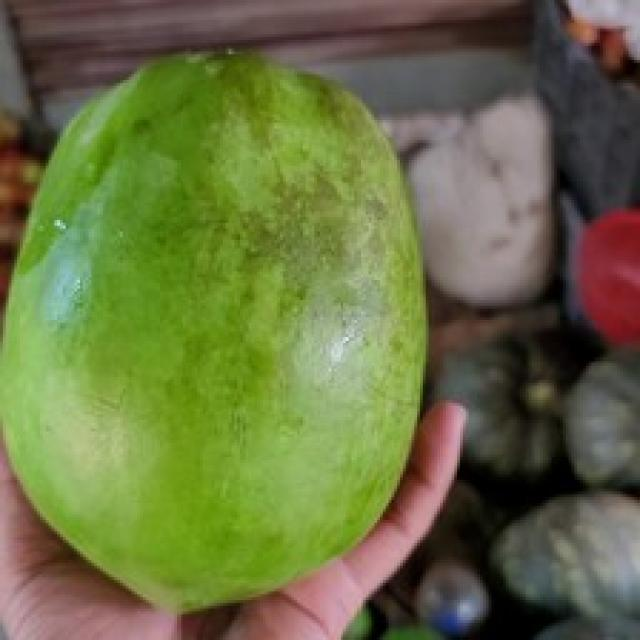Pepaya unrippen: (5, 38, 419, 618)
